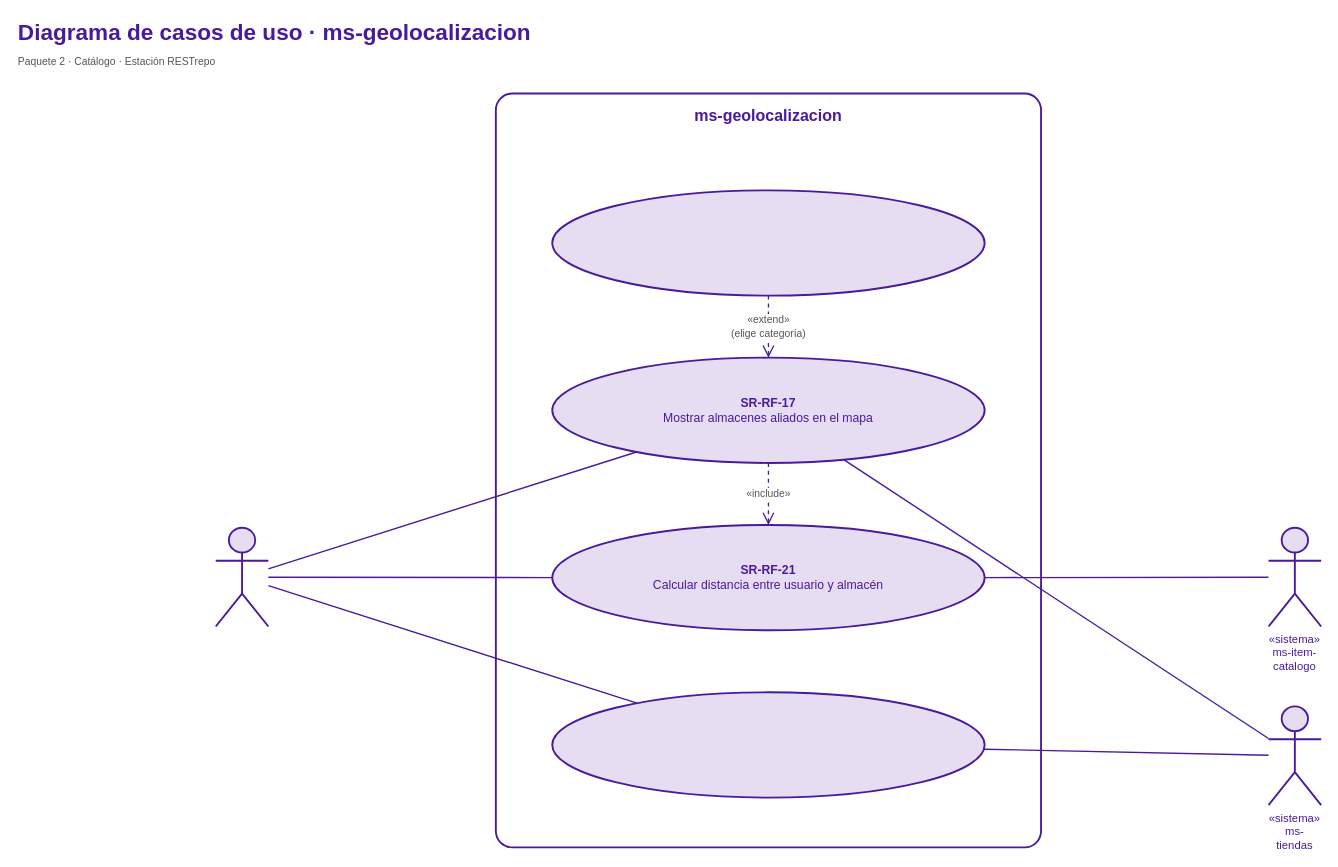
The diagram is 1338 pixels wide and 867 high, and some of its shapes have lost their labels. Here are the shapes that lost their labels. From the top down, the centre of each, then its label:
point (768, 242): SR-RF-18 Filtrar almacenes por categoría
point (241, 576): Usuario comprador
point (768, 744): SR-RF-43 Consultar fundaciones aliadas cercanas
